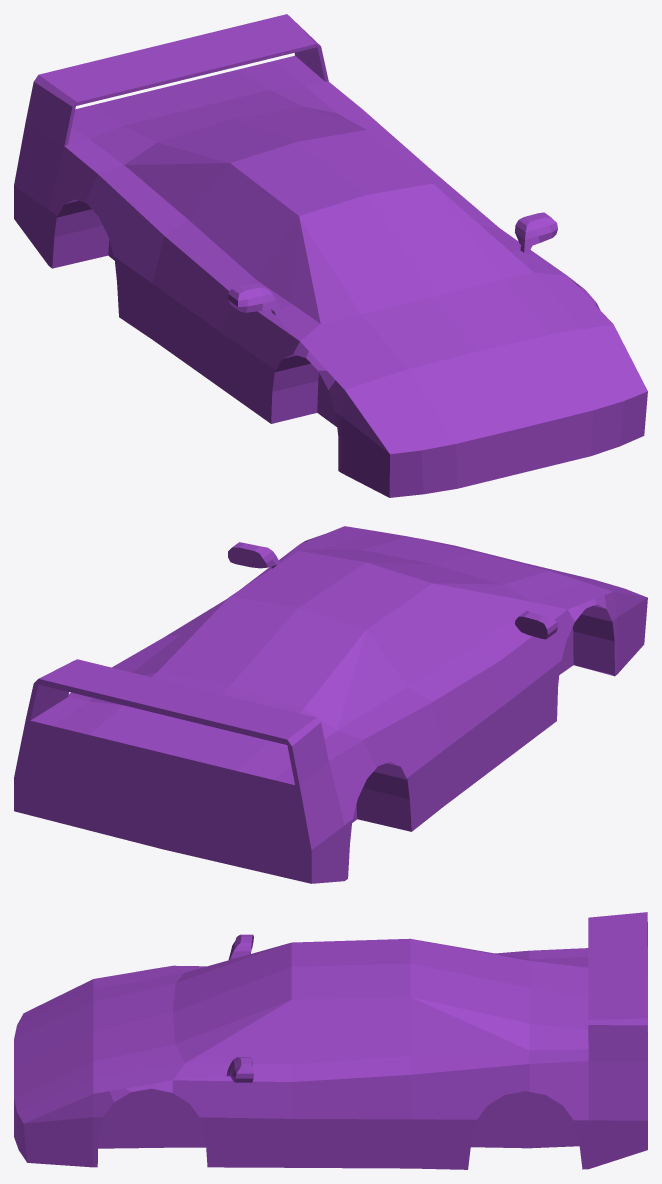
Rendered from car_3_body.glb.
3 renders of one model, top to bottom at view 1: azimuth 30°, elevation 25°; view 2: azimuth 150°, elevation 25°; view 3: azimuth 270°, elevation 25°, orthographic. The views are drawn at different scales.
Visible parts, largest first — view 1: CarBody; view 2: CarBody; view 3: CarBody.
Part boxes in pixels (x1,y1,x2,y2): CarBody: (14, 14, 647, 497); CarBody: (14, 526, 647, 883); CarBody: (14, 912, 647, 1169).
Bounding box in the file's own units: 1.29 × 0.6442 × 2.53.
